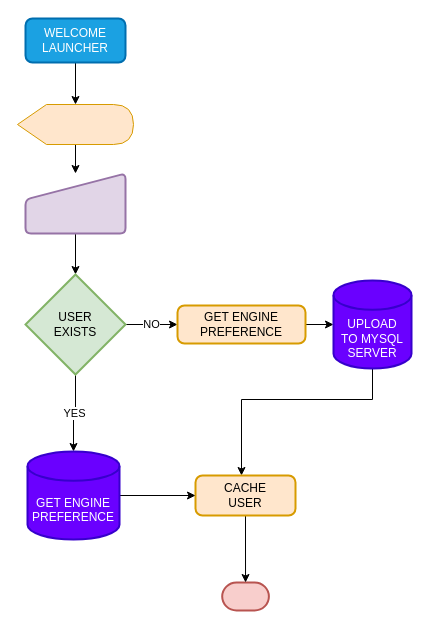
Some shapes in this 430 by 628 pixel diagram are drawn without their labels. The centre of each missing label's shape, as x and y in pixels:
EXIT: the point at 245,596
GREETINGS: the point at 75,124
USER INFO: the point at 75,203
